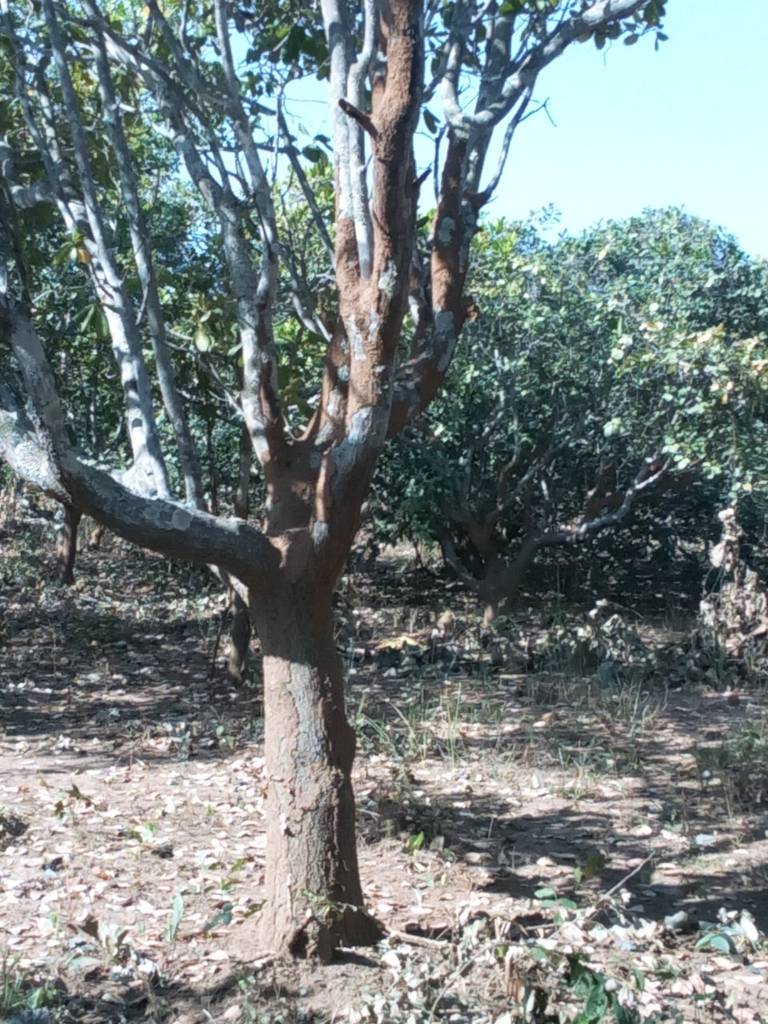Termites: (257, 575, 363, 946), (332, 205, 397, 411), (368, 13, 411, 186)
